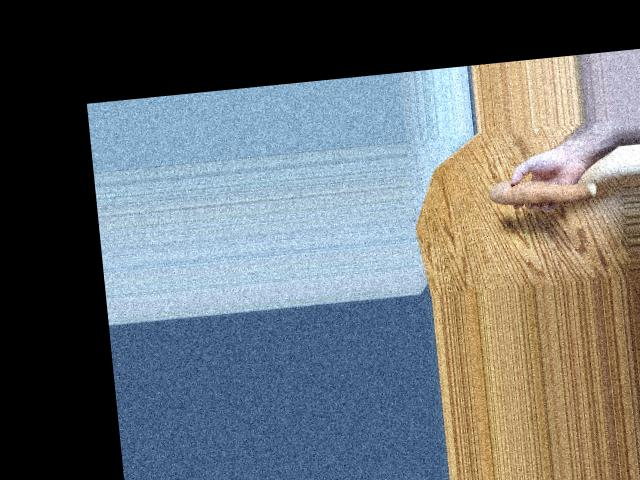sweet_potato: (488, 179, 589, 216)
